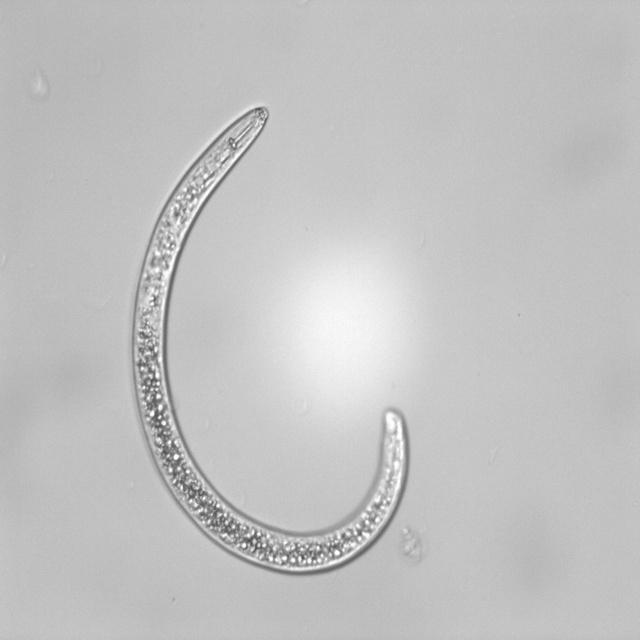Helicotylenchus: (115, 92, 418, 582)
